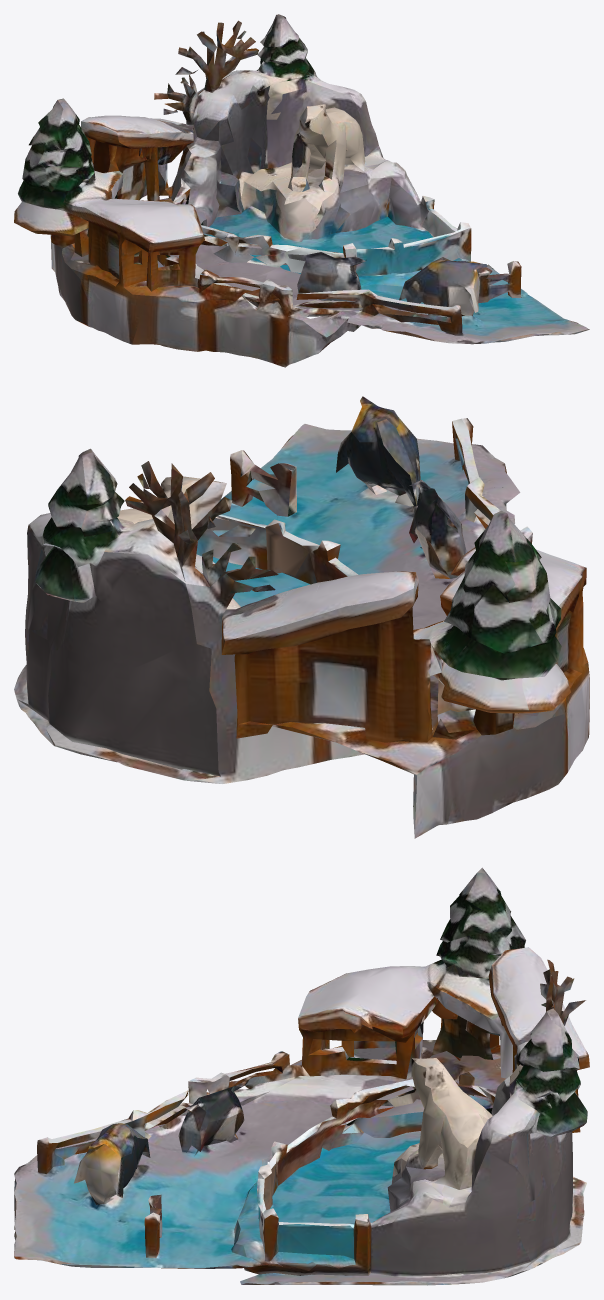
The model's file is asahiyama-zoo.glb.
3 renders of one model, top to bottom at view 1: azimuth 30°, elevation 25°; view 2: azimuth 150°, elevation 25°; view 3: azimuth 270°, elevation 25°, orthographic. The views are drawn at different scales.
Visible parts, largest first — view 1: logan-textured.obj; view 2: logan-textured.obj; view 3: logan-textured.obj.
Boxes of the visible parts, x1,y1,x2,y2 form: logan-textured.obj: (14, 14, 589, 367); logan-textured.obj: (14, 396, 589, 838); logan-textured.obj: (14, 867, 589, 1285).
Size of the model in its own units: 0.8829 by 0.4751 by 1.
Materials: 1 (1 with a texture image).
